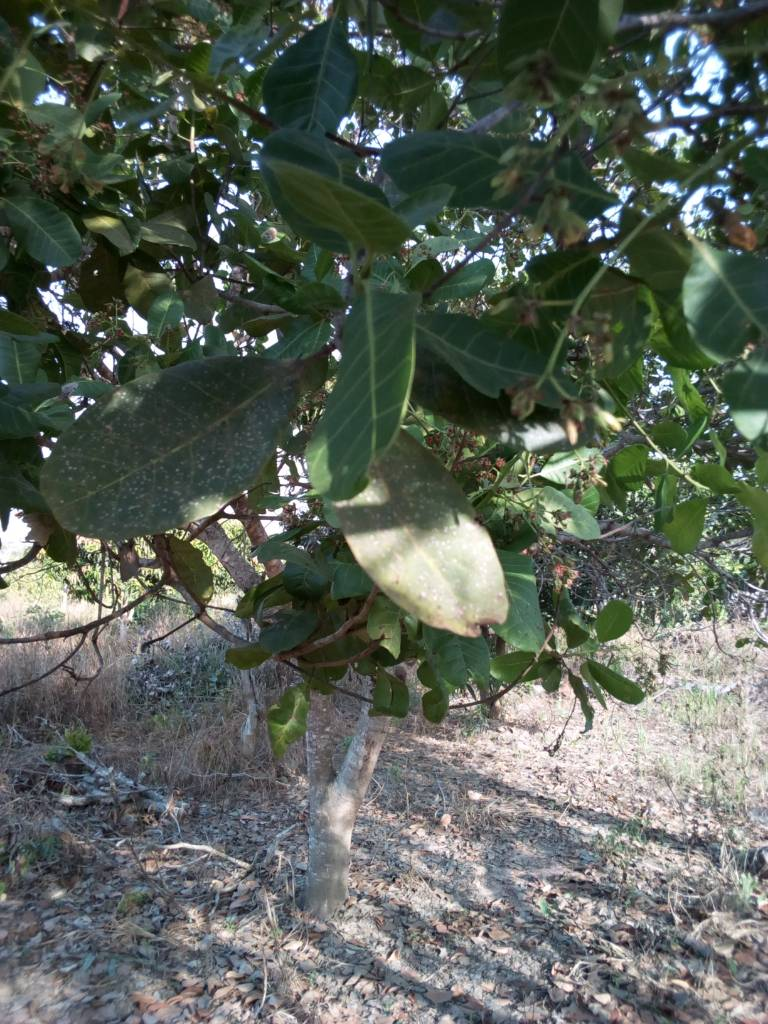Oidium: (302, 398, 579, 653), (42, 339, 290, 568)
